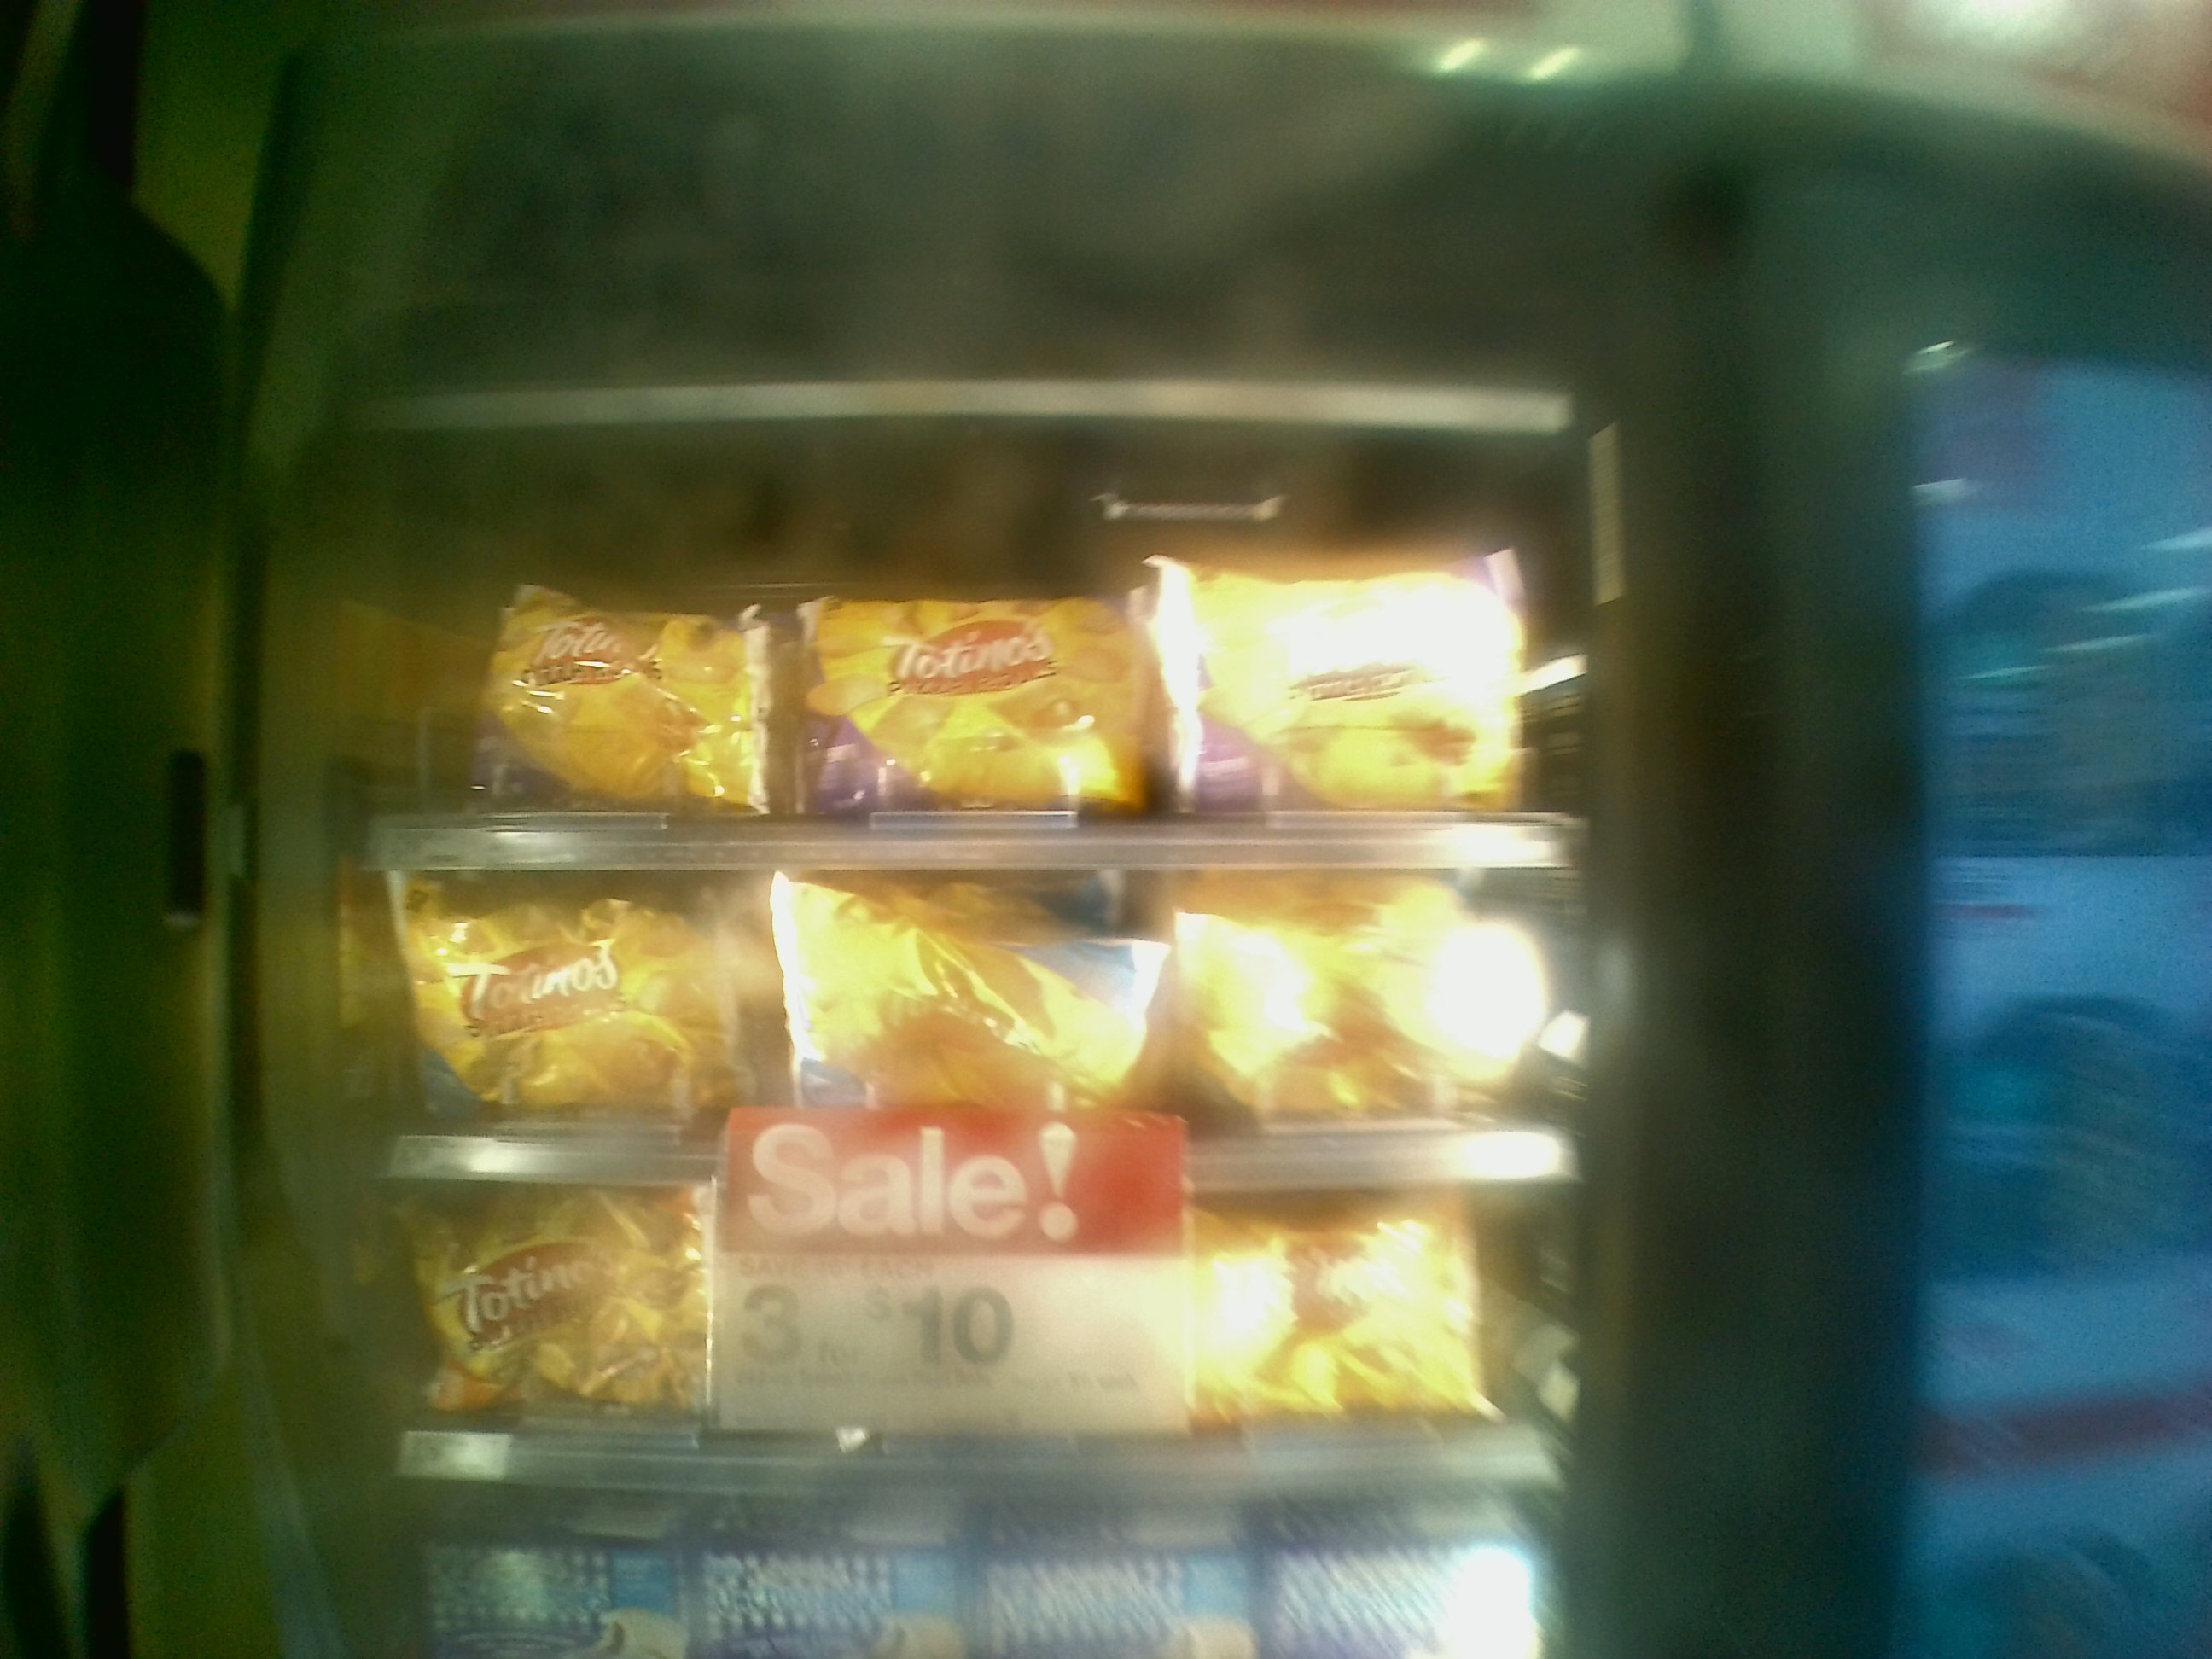shelf: (308, 423, 1609, 873), (324, 1182, 1575, 1516), (317, 871, 1587, 1185)
